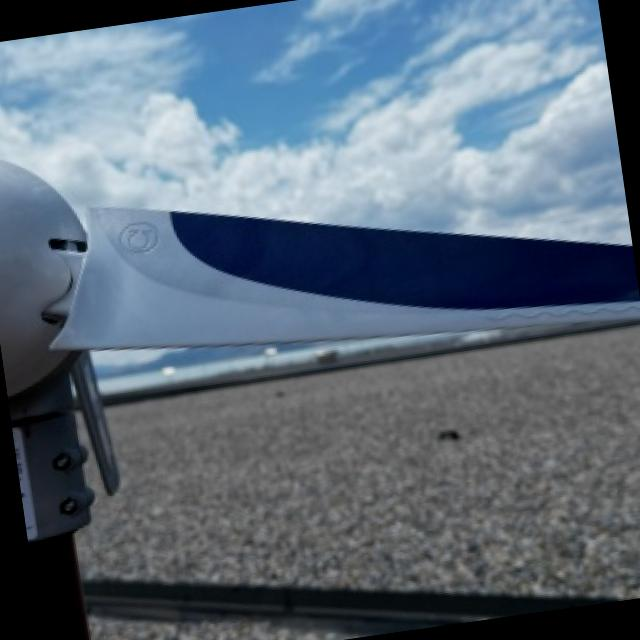healthy: (0, 161, 640, 640)
